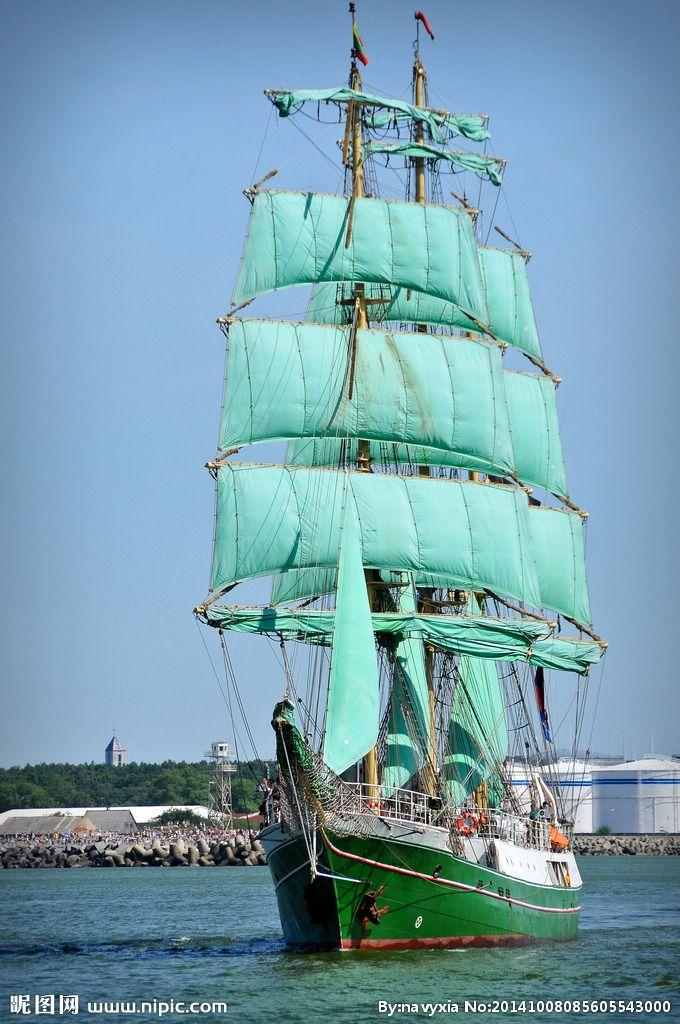fanchuan: (190, 6, 601, 942)
